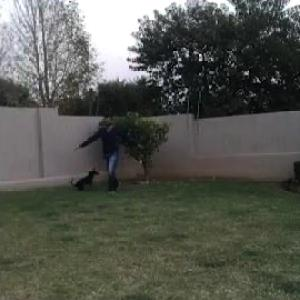land: (89, 102, 162, 201)
